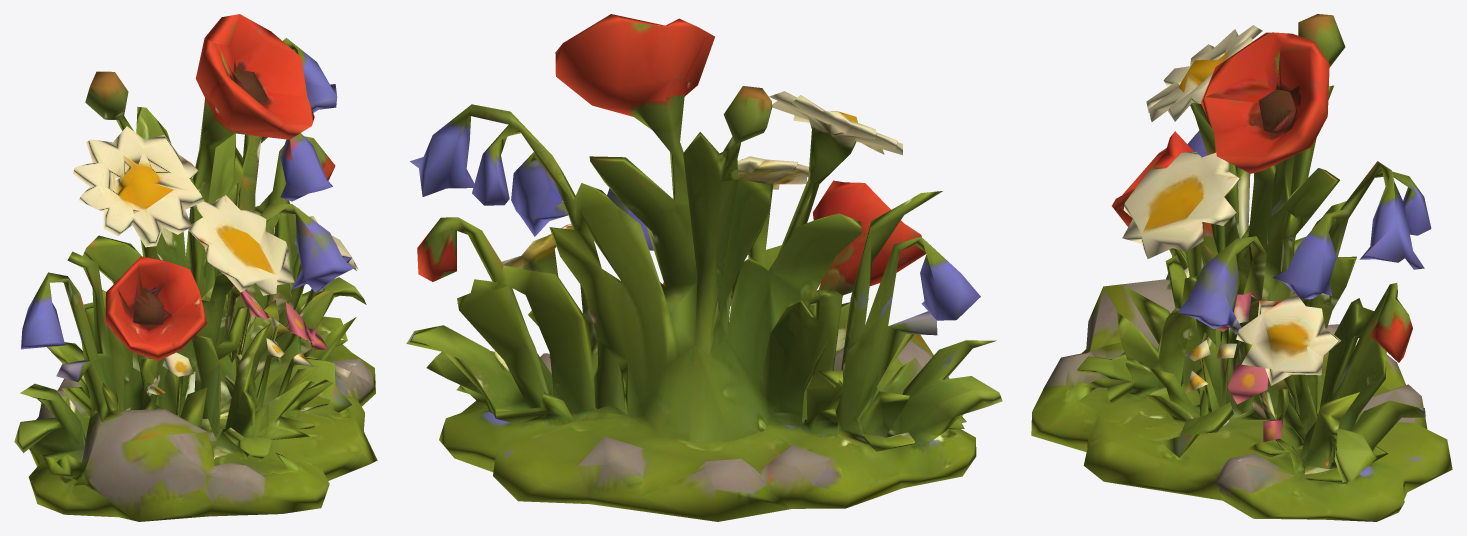
3 renders of one model, left to right at view 1: azimuth 30°, elevation 25°; view 2: azimuth 150°, elevation 25°; view 3: azimuth 270°, elevation 25°, orthographic. The views are drawn at different scales.
Parts seen in each view (by area): view 1: wildflowers; view 2: wildflowers; view 3: wildflowers.
Part boxes in pixels (x1,y1,x2,y2): wildflowers: (14, 14, 377, 521); wildflowers: (406, 14, 1002, 521); wildflowers: (1031, 14, 1452, 521).
Bounding box in the file's own units: 0.5712 × 0.4966 × 0.4585.
1 material, 1 textured.
